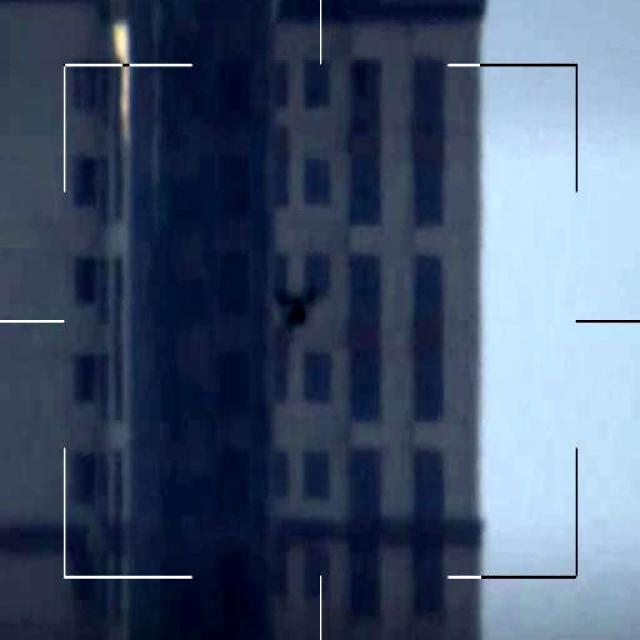bird: (270, 280, 324, 342)
